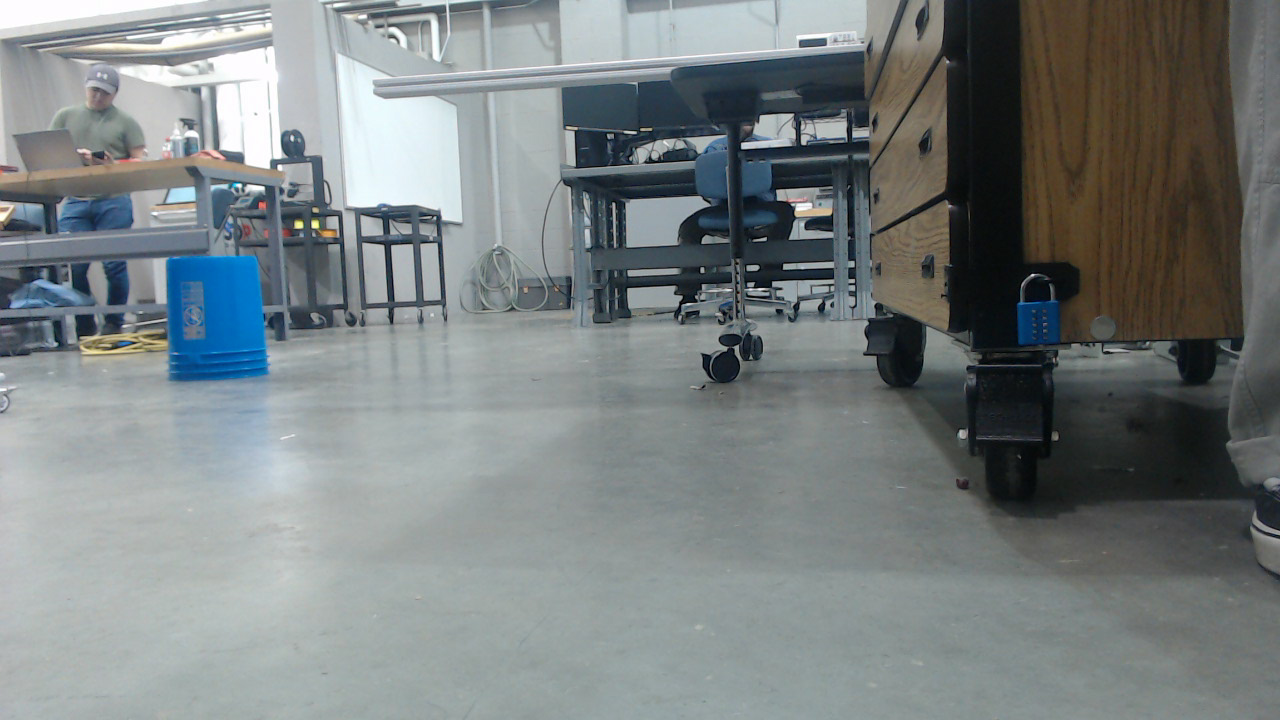blue_bucket: (165, 255, 278, 391)
